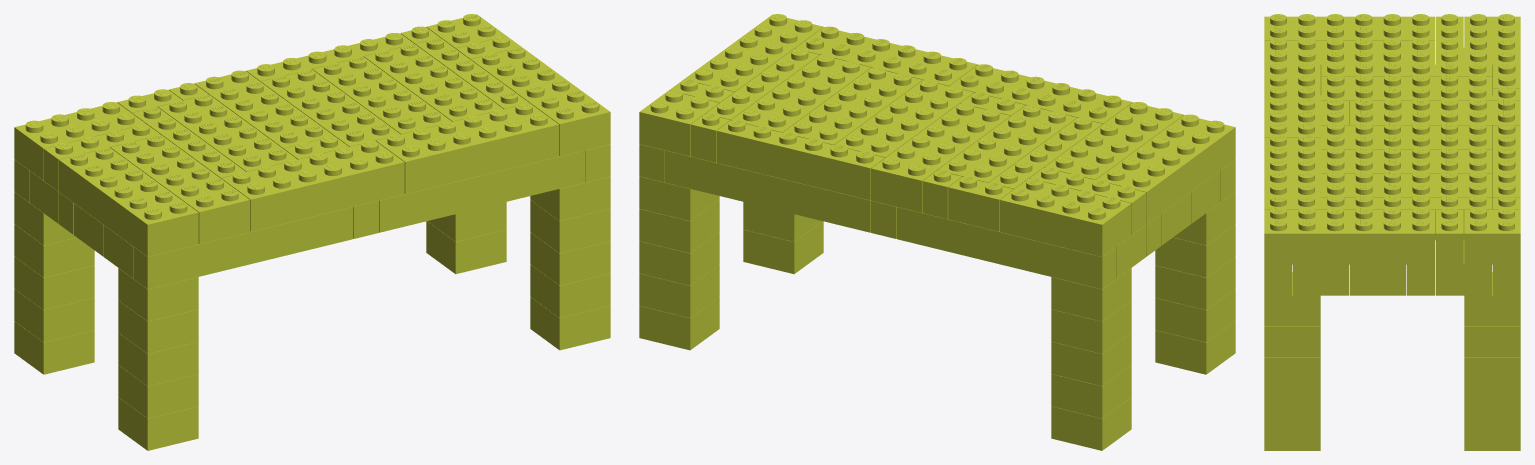
File: brickgpt_fbcf3009_2_table_with_a_long_flat_rectang_seed4.glb
3 views of the same model, side by side, from view 1: azimuth 30°, elevation 25°; view 2: azimuth 150°, elevation 25°; view 3: azimuth 270°, elevation 25° (orthographic). The views are drawn at different scales.
Parts seen in each view (by area): view 1: 00057_2456.DAT, 00048_2456.DAT, 00061_2456.DAT, 00040_3008.DAT, 00028_3008.DAT, 00058_2456.DAT, 00043_2456.DAT, 00054_2456.DAT, 00047_2456.DAT, 00051_2456.DAT, 00046_2456.DAT, 00050_2456.DAT (+31 smaller); view 2: 00061_2456.DAT, 00049_3009.DAT, 00059_3001.DAT, 00035_3008.DAT, 00027_3008.DAT, 00051_2456.DAT, 00057_2456.DAT, 00048_2456.DAT, 00043_2456.DAT, 00047_2456.DAT, 00050_2456.DAT, 00058_2456.DAT (+33 smaller); view 3: 00043_2456.DAT, 00058_2456.DAT, 00051_2456.DAT, 00046_2456.DAT, 00050_2456.DAT, 00047_2456.DAT, 00061_2456.DAT, 00054_2456.DAT, 00057_2456.DAT, 00048_2456.DAT, 00041_3003.DAT, 00059_3001.DAT (+25 smaller).
Boxes of the visible parts, left/top/right/bottom form: 00057_2456.DAT: left=221, top=140, right=404, bottom=231; 00048_2456.DAT: left=376, top=102, right=558, bottom=193; 00061_2456.DAT: left=59, top=147, right=198, bottom=256; 00040_3008.DAT: left=133, top=207, right=352, bottom=289; 00028_3008.DAT: left=379, top=150, right=584, bottom=232; 00058_2456.DAT: left=110, top=134, right=249, bottom=244; 00043_2456.DAT: left=471, top=46, right=610, bottom=156; 00054_2456.DAT: left=158, top=94, right=297, bottom=171; 00047_2456.DAT: left=312, top=56, right=451, bottom=134; 00051_2456.DAT: left=194, top=70, right=333, bottom=148; 00046_2456.DAT: left=364, top=43, right=503, bottom=121; 00050_2456.DAT: left=261, top=69, right=400, bottom=146; 00061_2456.DAT: left=1096, top=114, right=1235, bottom=224; 00049_3009.DAT: left=716, top=120, right=884, bottom=200; 00059_3001.DAT: left=1000, top=178, right=1131, bottom=256; 00035_3008.DAT: left=897, top=207, right=1116, bottom=289; 00027_3008.DAT: left=665, top=150, right=870, bottom=232; 00051_2456.DAT: left=871, top=103, right=1010, bottom=212; 00057_2456.DAT: left=949, top=64, right=1132, bottom=123; 00048_2456.DAT: left=795, top=26, right=977, bottom=86; 00043_2456.DAT: left=684, top=14, right=823, bottom=92; 00047_2456.DAT: left=783, top=67, right=922, bottom=144; 00050_2456.DAT: left=834, top=79, right=973, bottom=157; 00058_2456.DAT: left=1044, top=102, right=1183, bottom=179; 00043_2456.DAT: left=1264, top=207, right=1434, bottom=264; 00058_2456.DAT: left=1264, top=38, right=1434, bottom=94; 00051_2456.DAT: left=1350, top=98, right=1520, bottom=155; 00046_2456.DAT: left=1321, top=171, right=1492, bottom=197; 00050_2456.DAT: left=1321, top=122, right=1492, bottom=149; 00047_2456.DAT: left=1321, top=147, right=1492, bottom=173; 00061_2456.DAT: left=1264, top=14, right=1434, bottom=40; 00054_2456.DAT: left=1321, top=74, right=1492, bottom=125; 00057_2456.DAT: left=1264, top=62, right=1320, bottom=137; 00048_2456.DAT: left=1264, top=134, right=1320, bottom=209; 00041_3003.DAT: left=1464, top=207, right=1520, bottom=264; 00059_3001.DAT: left=1464, top=14, right=1520, bottom=95.
Size of the model in its own units: 0.1438 by 0.0687 by 0.0718.
